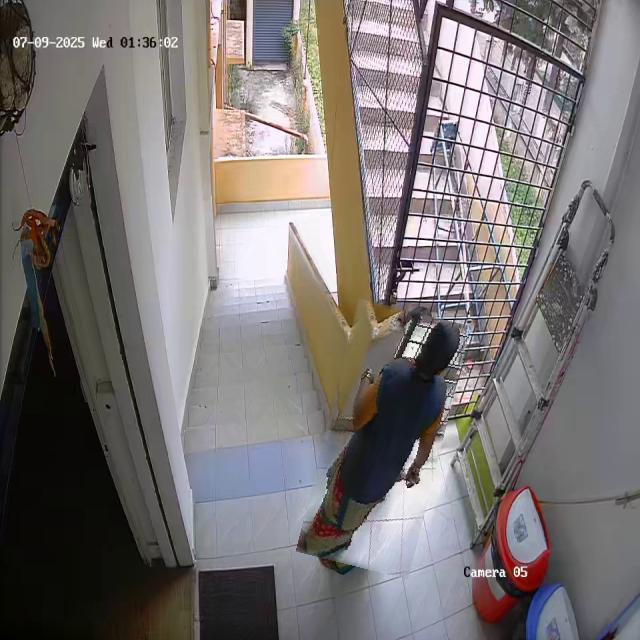person: (312, 303, 456, 574)
